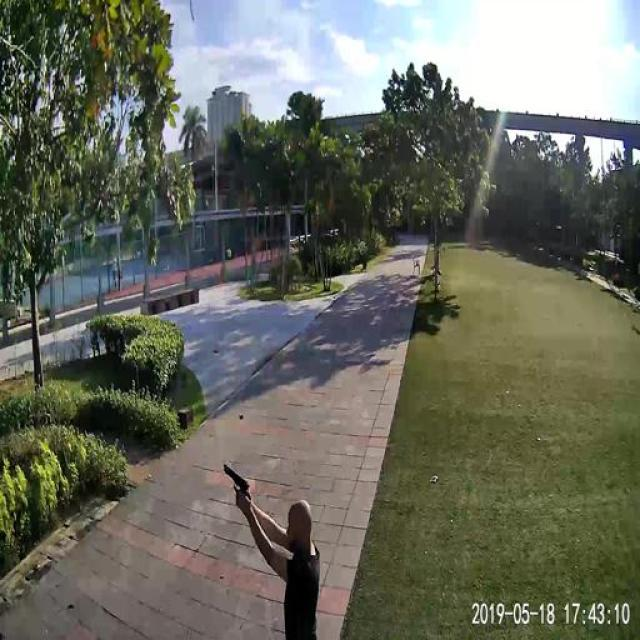Gun: (212, 449, 254, 514)
